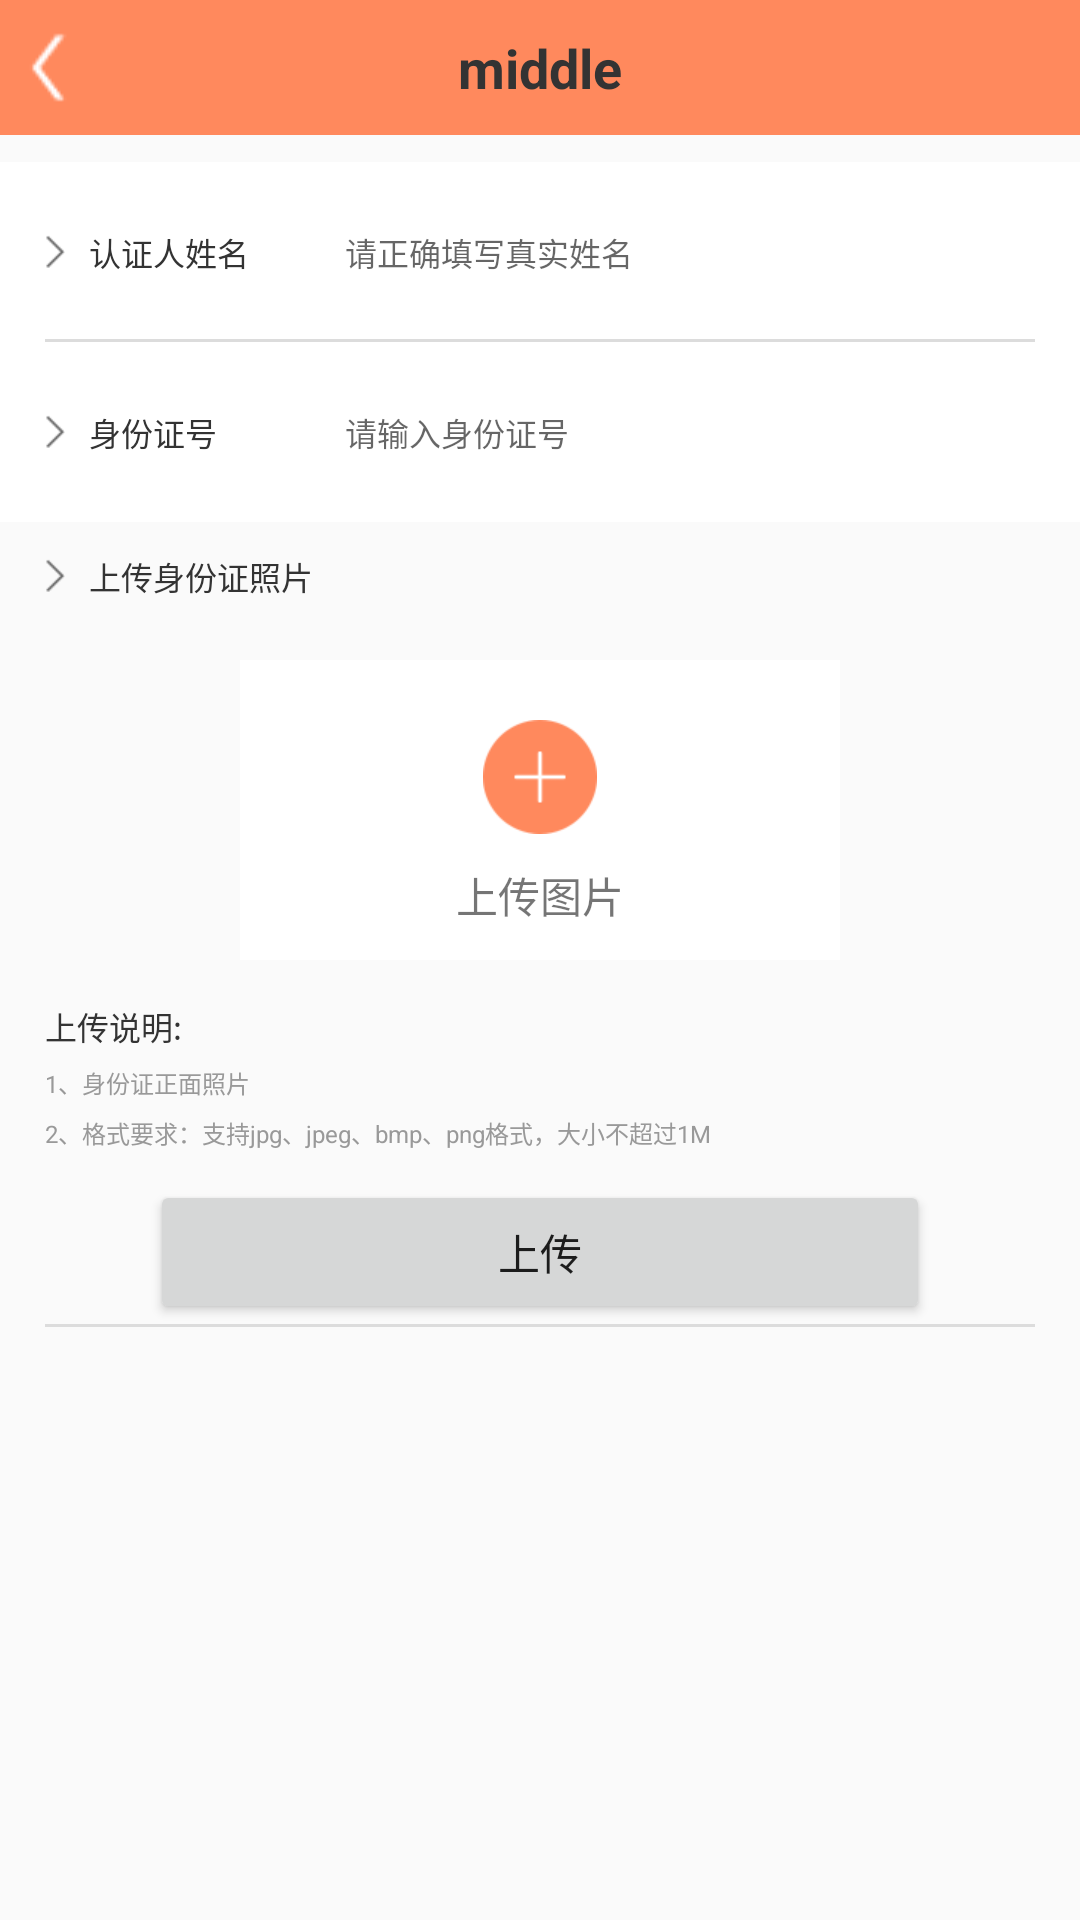

Where to tap for icons on this 1080px×1920px app screen, as [x,y]:
back: [48,67]
jia: [540,777]
